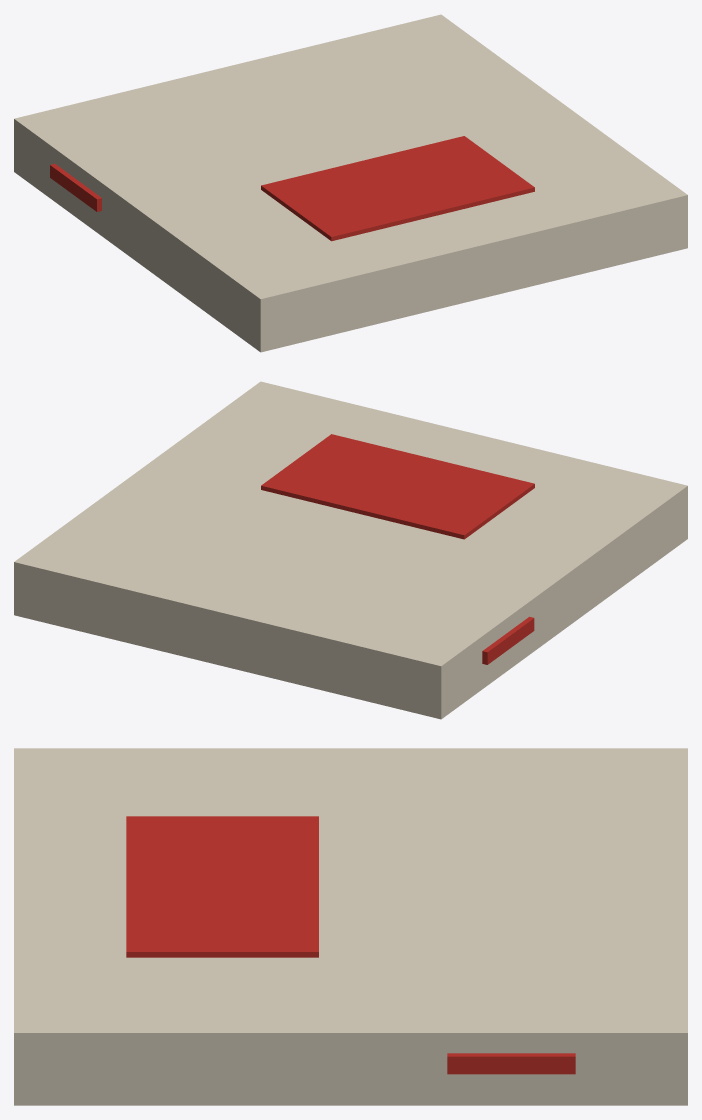
File: pizza_box.glb
The picture shows the model from 3 angles, top to bottom: view 1: azimuth 30°, elevation 25°; view 2: azimuth 150°, elevation 25°; view 3: azimuth 270°, elevation 25°; orthographic projection. The views are drawn at different scales.
Parts seen in each view (by area): view 1: Box1, Box3, Box2; view 2: Box1, Box3, Box2; view 3: Box1, Box3, Box2.
Part boxes in pixels (x1,y1,x2,y2): Box1: [14, 14, 687, 352]; Box3: [261, 136, 534, 241]; Box2: [50, 164, 101, 211]; Box1: [14, 381, 687, 719]; Box3: [261, 434, 534, 539]; Box2: [482, 616, 534, 664]; Box1: [14, 748, 687, 1105]; Box3: [126, 816, 318, 957]; Box2: [447, 1053, 575, 1074].
Size of the model in its own units: 0.43 by 0.0545 by 0.42.
